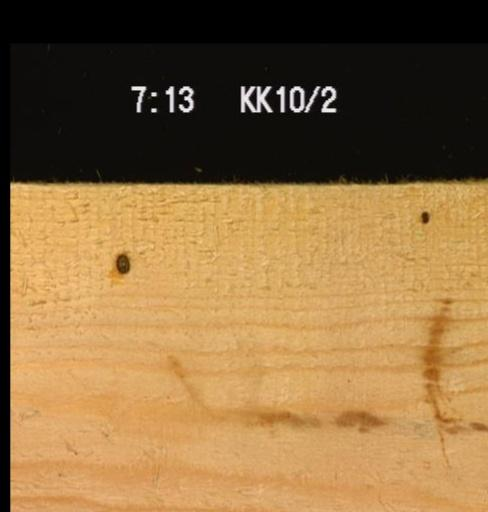dry_knot: (114, 251, 130, 274), (418, 209, 429, 224)
